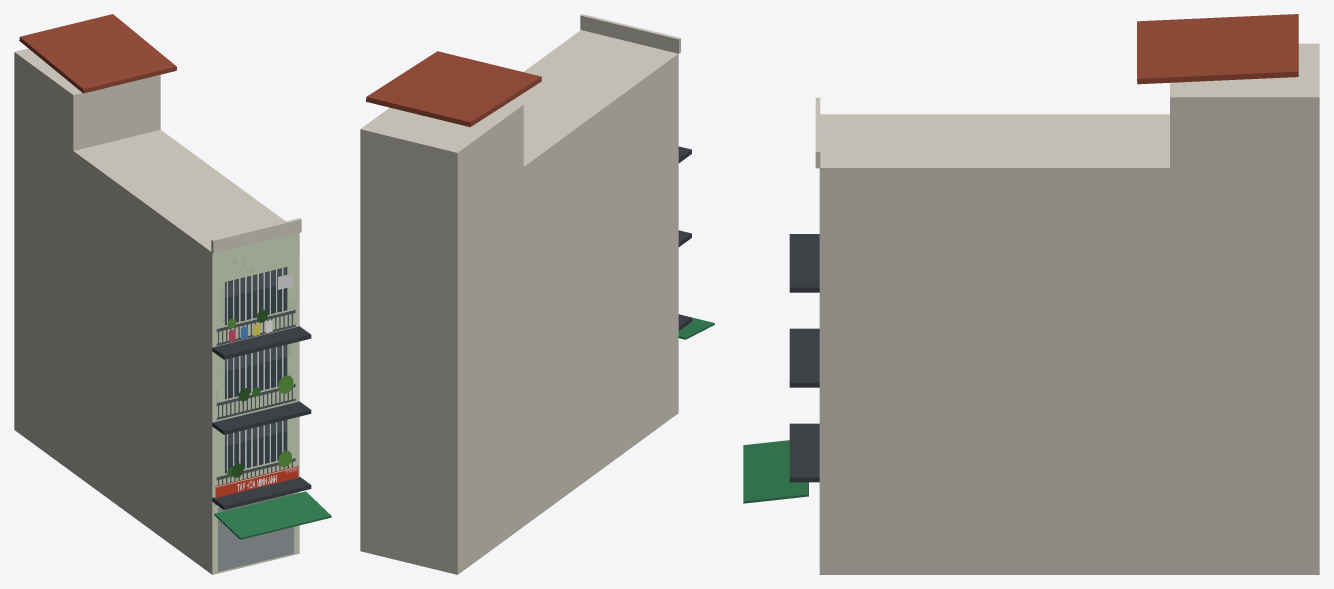
The model's file is tube_house_c.glb.
3 renders of one model, left to right at view 1: azimuth 30°, elevation 25°; view 2: azimuth 150°, elevation 25°; view 3: azimuth 270°, elevation 25°, orthographic. The views are drawn at different scales.
Visible parts, largest first — view 1: tubehouse; view 2: tubehouse; view 3: tubehouse.
Part boxes in pixels (x1,y1,x2,y2): tubehouse: [14, 14, 331, 574]; tubehouse: [360, 14, 714, 574]; tubehouse: [743, 14, 1319, 574].
Size of the model in its own units: 4.55 by 18.62 by 19.26.
Materials: 6 (2 with a texture image).
